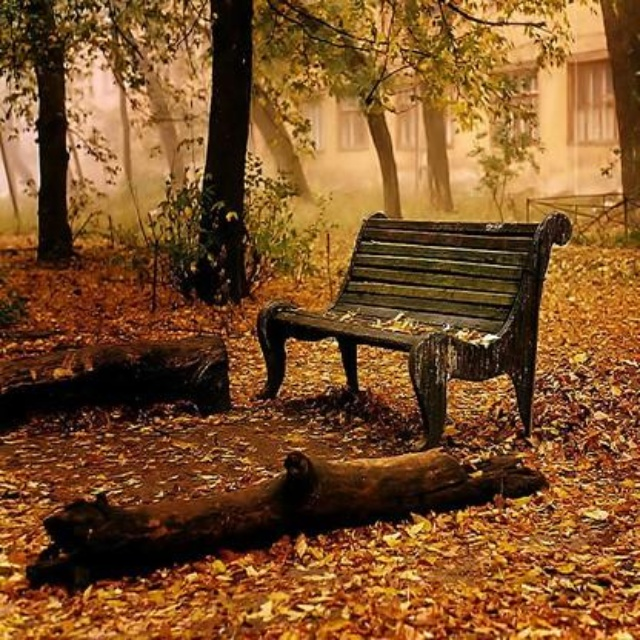obstacle: (246, 194, 597, 448)
